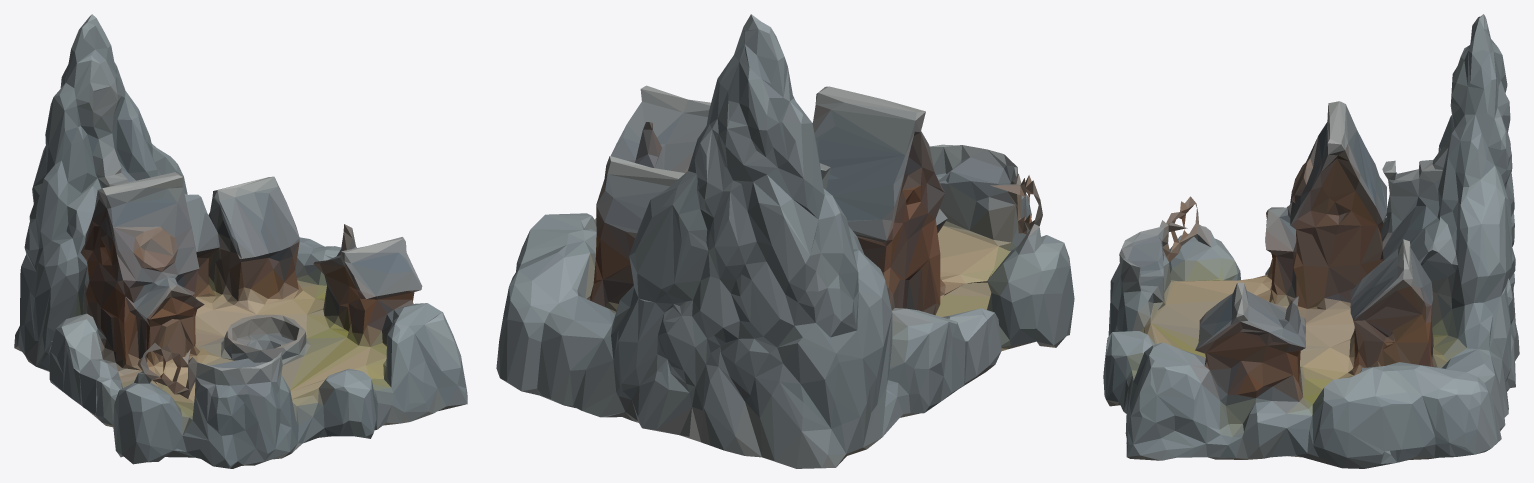
File: dwarf_town.glb
3 views of the same model, side by side, from view 1: azimuth 30°, elevation 25°; view 2: azimuth 150°, elevation 25°; view 3: azimuth 270°, elevation 25° (orthographic). The views are drawn at different scales.
Parts seen in each view (by area): view 1: geometry_0; view 2: geometry_0; view 3: geometry_0.
Part boxes in pixels (x1,y1,x2,y2): geometry_0: (14,14,467,468); geometry_0: (496,14,1074,468); geometry_0: (1103,14,1519,468).
Size of the model in its own units: 1.86 by 1.73 by 1.9.
